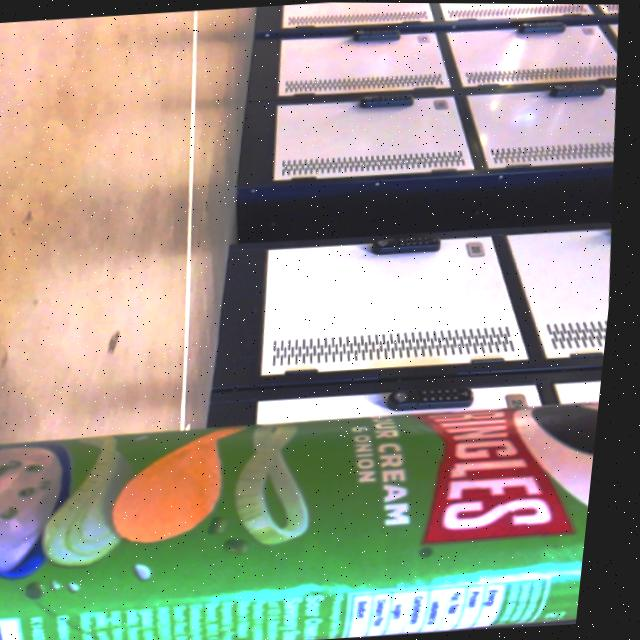greenpringles: (0, 369, 610, 640)
